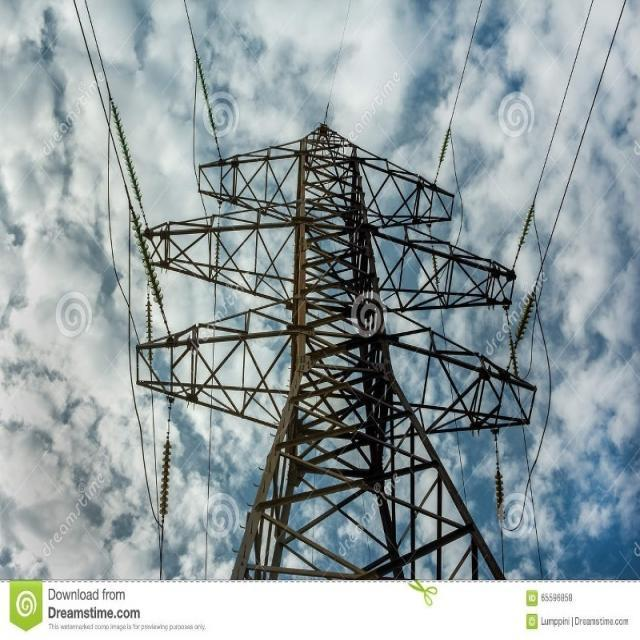non-critical vegetation: (148, 89, 523, 578)
